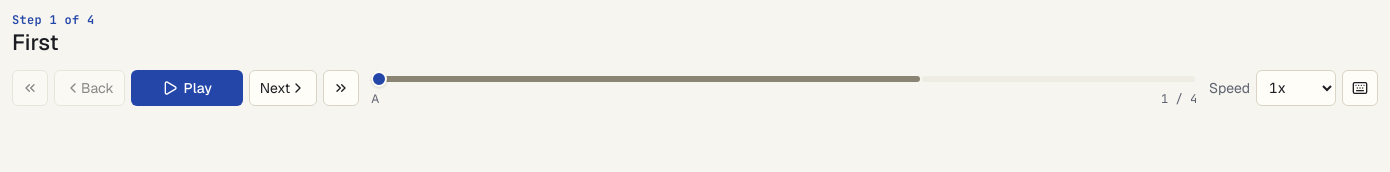
Test case: TimelineBar and keys › moves by keyboard and by button
Expected: the message shows "Step 1 of 4", [12,11,98,56]
Press ArrowRight
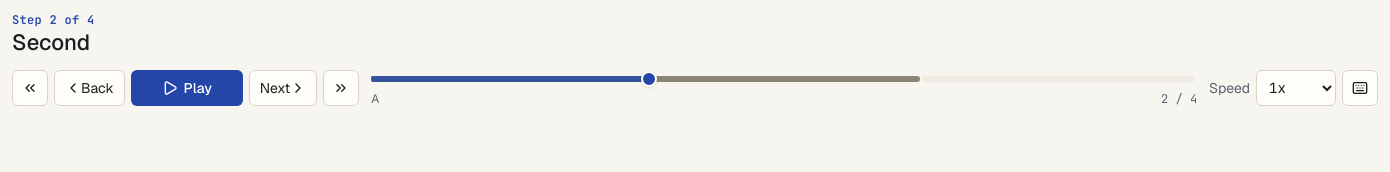
Expected: the message shows "Second", [12,28,90,56]
Press ArrowRight
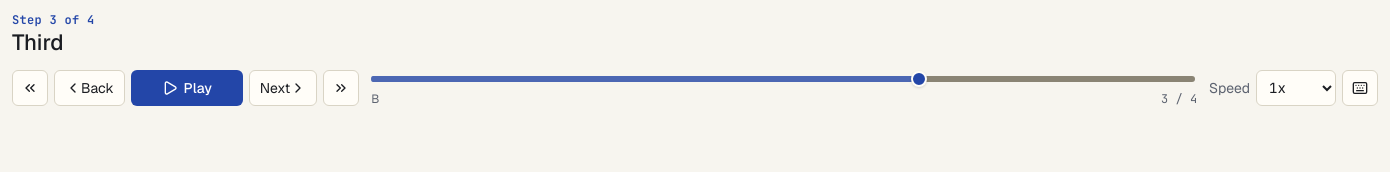
Expected: the message shows "Third", [12,28,64,56]
Click the button "Back": x=89, y=88 [54,70,125,106]
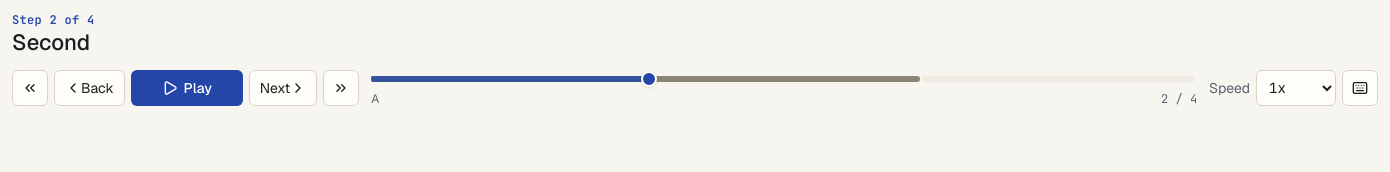
Expected: the message shows "Second", [12,28,90,56]
Click the button named "Next group": x=341, y=88 [323,70,359,106]
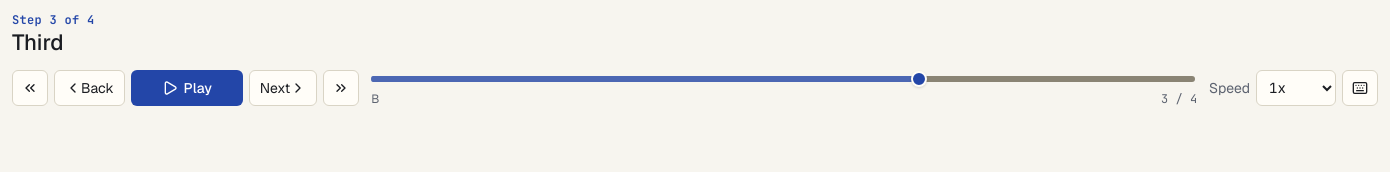
Expected: the message shows "Third", [12,28,64,56]
Press End
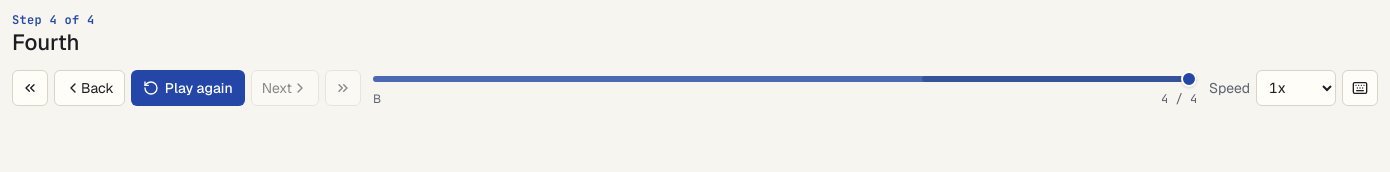
Expected: the message shows "Fourth", [12,28,80,56]
Expected: the button "Play again" is shown, [131,70,245,106]
Set the slider named "Step" to "0": x=381, y=79 [373,69,1197,89]
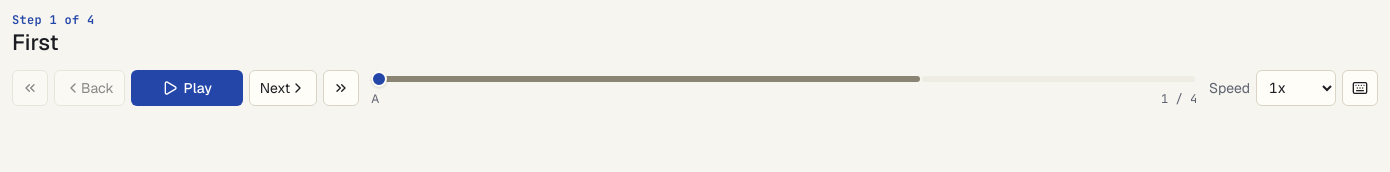
Expected: the message shows "First", [12,28,58,56]
